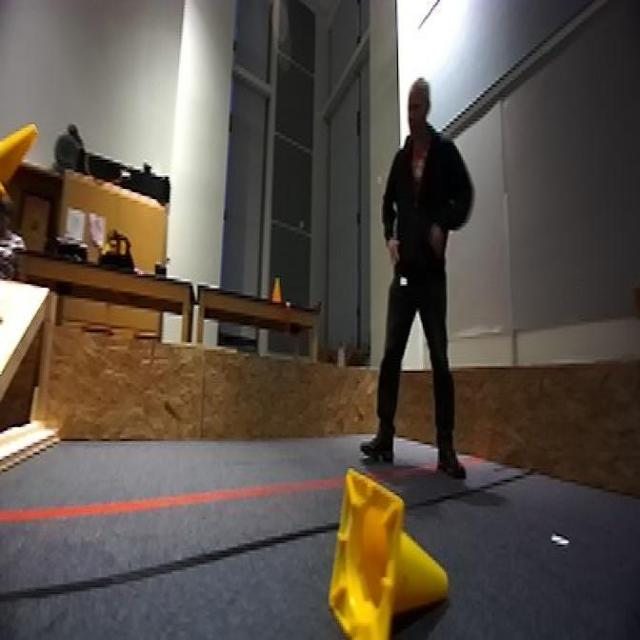frc_cone: (329, 466, 448, 640), (0, 117, 41, 201)
